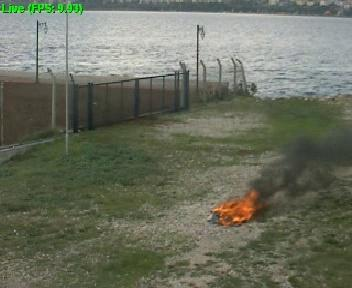fire: (212, 193, 253, 226)
